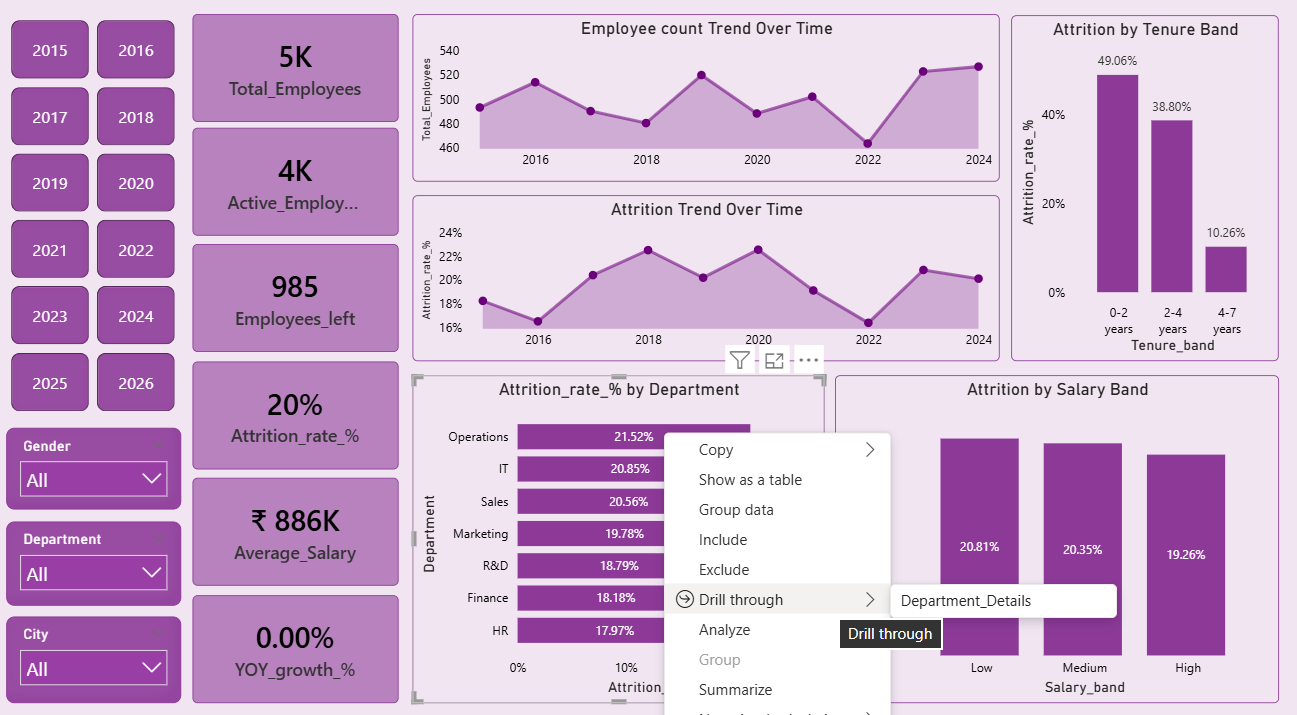

What the dashboard file says about the page in this screenshot:
{"tool":"powerbi","page":{"name":"Dashboard","canvas":[1280,720],"ordinal":0},"visuals":[{"type":"cardVisual","fields":{"Data":["Measures_Table.Total_Employees"]},"box":[197.9,20,201.6,105.2],"z":0},{"type":"lineChart","title":"Attrition Trend Over Time","fields":{"Category":["Date_table.Year"],"Y":["Measures_Table.Attrition_rate_%"]},"box":[413.3,196.9,574.7,162.6],"z":1000},{"type":"lineChart","title":"Employee count Trend Over Time","fields":{"Category":["Date_table.Year"],"Y":["Measures_Table.Total_Employees"]},"box":[413.3,19.6,574.7,163.9],"z":2000},{"type":"cardVisual","fields":{"Data":["Measures_Table.Active_Employees"]},"box":[197.9,130.3,201.6,105.2],"z":3000},{"type":"cardVisual","fields":{"Data":["Measures_Table.Employees_left"]},"box":[197.9,244.2,201.6,105.2],"z":4000},{"type":"cardVisual","fields":{"Data":["Measures_Table.Average_Salary"]},"box":[197.9,473.4,201.6,105.2],"z":5000},{"type":"cardVisual","fields":{"Data":["Measures_Table.Attrition_rate_%"]},"box":[197.9,359.5,201.6,105.2],"z":6000},{"type":"cardVisual","fields":{"Data":["Measures_Table.YOY_growth_%"]},"box":[197.9,588.6,201.6,105.2],"z":7000},{"type":"barChart","fields":{"Y":["Measures_Table.Attrition_rate_%"],"Category":["HR_Employee_Data.Department"]},"box":[413.8,372.8,403,320.9],"z":8000},{"type":"clusteredColumnChart","title":"Attrition by Tenure Band","fields":{"Category":["HR_Employee_Data.Tenure_band"],"Y":["Measures_Table.Attrition_rate_%"]},"box":[999.1,20.8,261.7,338.7],"z":9000},{"type":"columnChart","title":"Attrition by Salary Band","fields":{"Y":["Measures_Table.Attrition_rate_%"],"Category":["HR_Employee_Data.Salary_band"]},"box":[826.4,372.8,434.3,320.9],"z":10000},{"type":"advancedSlicerVisual","fields":{"Values":["Date_table.Year"]},"box":[15.7,20.5,171.3,392.1],"z":11000},{"type":"slicer","title":"Gender","fields":{"Values":["HR_Employee_Data.Gender"]},"box":[15.7,424.7,171.3,79.6],"z":12000},{"type":"slicer","title":"Department","fields":{"Values":["HR_Employee_Data.Department"]},"box":[15.7,516.4,171.3,82],"z":13000},{"type":"slicer","title":"City","fields":{"Values":["HR_Employee_Data.City"]},"box":[15.7,609.3,171.3,84.5],"z":14000}]}

Visuals, with their boxes in screenshot pixels (x1, y1, x2, y2), scaled from the page's 1280x720 canvas onto the 1297x715 screenshot:
cardVisual - Measures_Table.Total_Employees: (201, 20, 405, 124)
"Attrition Trend Over Time" lineChart: (419, 196, 1001, 357)
"Employee count Trend Over Time" lineChart: (419, 19, 1001, 182)
cardVisual - Measures_Table.Active_Employees: (201, 129, 405, 234)
cardVisual - Measures_Table.Employees_left: (201, 243, 405, 347)
cardVisual - Measures_Table.Average_Salary: (201, 470, 405, 575)
cardVisual - Measures_Table.Attrition_rate_%: (201, 357, 405, 461)
cardVisual - Measures_Table.YOY_growth_%: (201, 585, 405, 689)
barChart - Measures_Table.Attrition_rate_% x HR_Employee_Data.Department: (419, 370, 828, 689)
"Attrition by Tenure Band" clusteredColumnChart: (1012, 21, 1278, 357)
"Attrition by Salary Band" columnChart: (837, 370, 1277, 689)
advancedSlicerVisual - Date_table.Year: (16, 20, 189, 410)
"Gender" slicer: (16, 422, 189, 501)
"Department" slicer: (16, 513, 189, 594)
"City" slicer: (16, 605, 189, 689)
